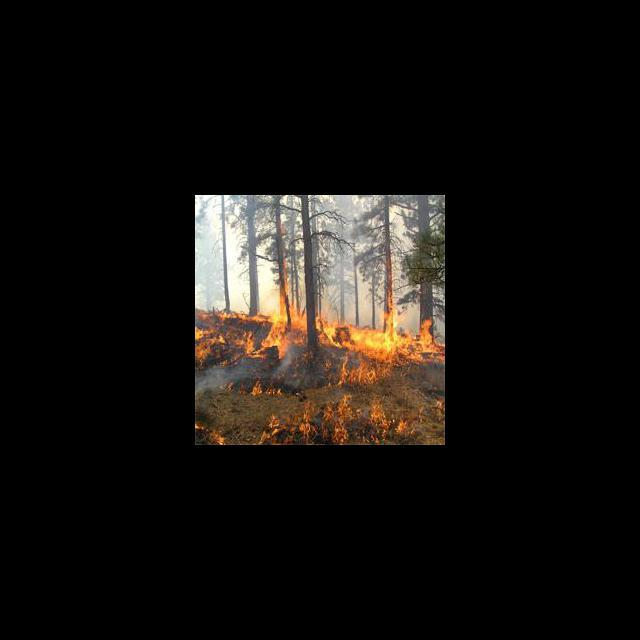Fire: (195, 304, 444, 397), (259, 397, 444, 444), (275, 262, 293, 312), (195, 422, 227, 445), (385, 256, 395, 305)
